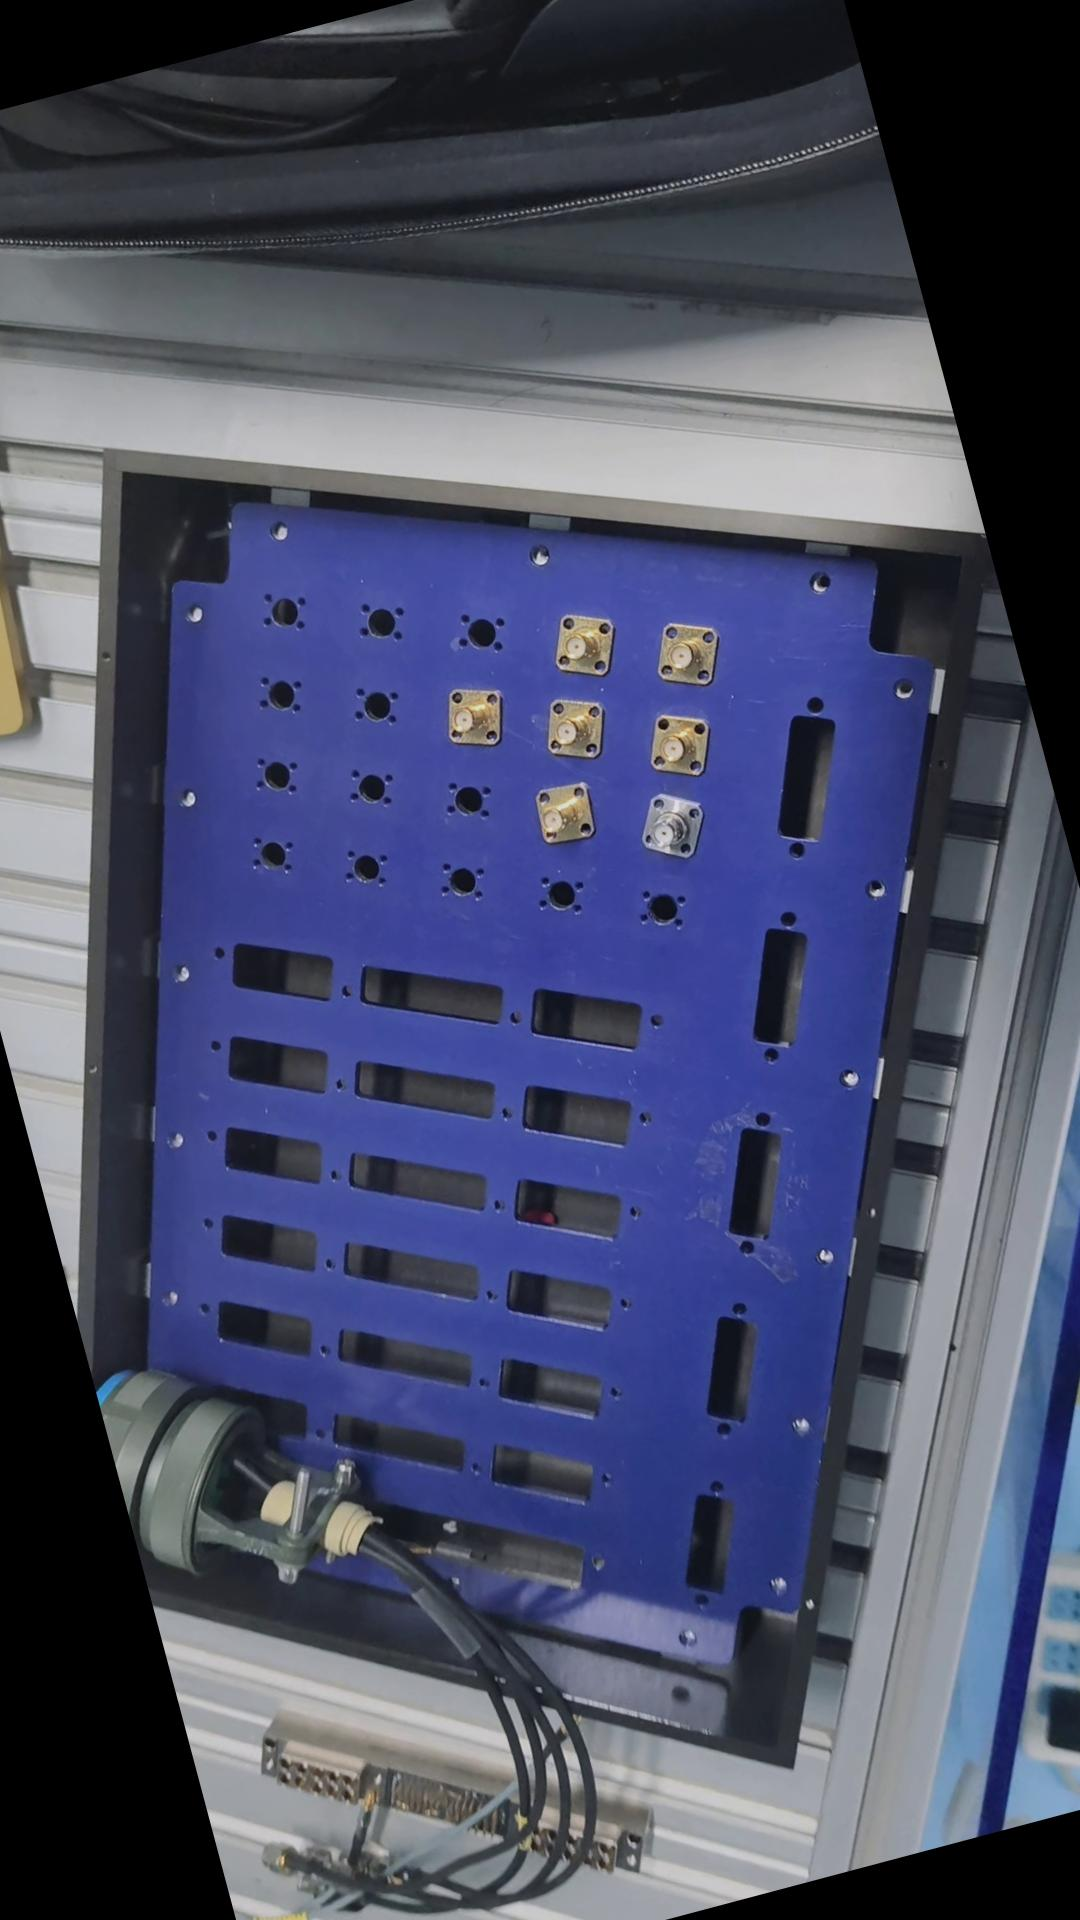SMA: (538, 599, 624, 690), (622, 782, 705, 869), (531, 684, 618, 765), (644, 615, 727, 694), (636, 709, 716, 787), (433, 679, 508, 760), (524, 782, 597, 851)
